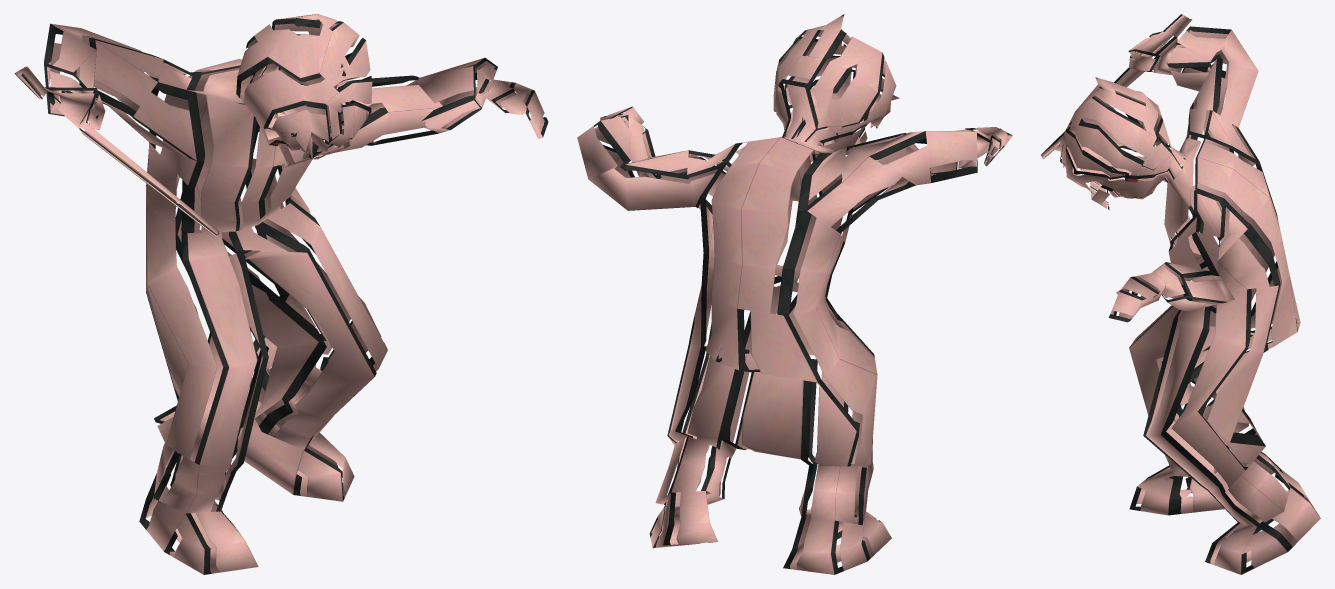
3 renders of one model, left to right at view 1: azimuth 30°, elevation 25°; view 2: azimuth 150°, elevation 25°; view 3: azimuth 270°, elevation 25°, orthographic. The views are drawn at different scales.
Visible parts, largest first — view 1: T1L6M004_1; view 2: T1L6M004_1; view 3: T1L6M004_1.
Boxes of the visible parts, box(x1,y1,x2,y2) form: T1L6M004_1: box(14, 14, 548, 574); T1L6M004_1: box(577, 14, 1012, 574); T1L6M004_1: box(1041, 14, 1320, 574).
Bounding box in the file's own units: 1.06 × 1.16 × 0.6551.
